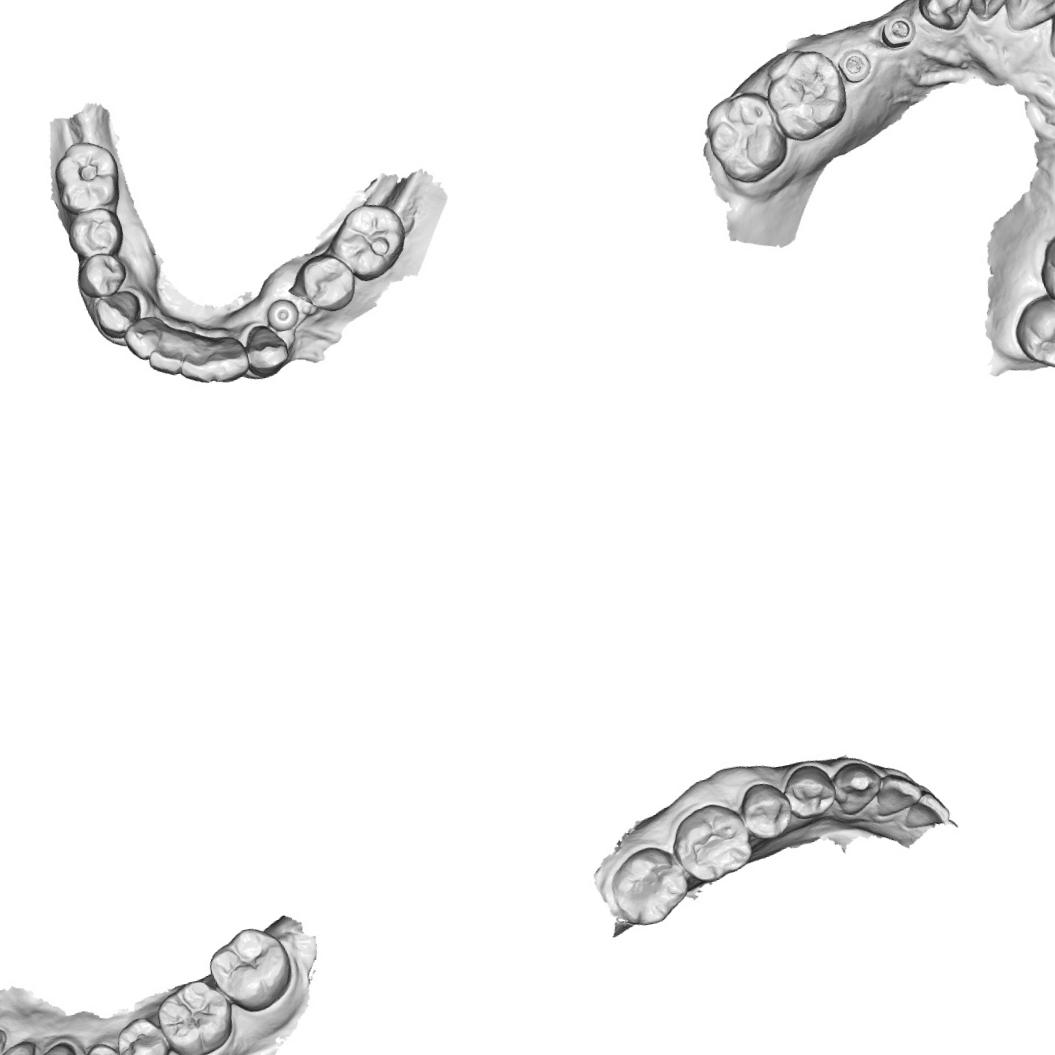canine: (827, 756, 887, 818), (240, 318, 293, 380), (90, 286, 145, 340), (913, 0, 975, 36), (19, 1037, 83, 1055)
implant: (262, 295, 302, 334), (883, 10, 917, 49), (840, 46, 872, 84)
incisor: (869, 767, 926, 818), (120, 312, 168, 363), (205, 334, 252, 385), (898, 788, 951, 833), (143, 331, 191, 378), (174, 341, 216, 388), (998, 0, 1055, 31), (961, 0, 1022, 23)
molar: (698, 86, 790, 190), (202, 920, 298, 1019), (665, 796, 757, 888), (602, 839, 693, 932), (322, 197, 412, 287), (763, 48, 849, 142), (150, 974, 240, 1055), (48, 134, 126, 217), (1010, 286, 1055, 379), (1034, 221, 1055, 319)
premolar: (296, 249, 360, 317), (734, 777, 797, 843), (779, 758, 840, 822), (63, 202, 126, 260), (72, 249, 130, 302), (111, 1012, 174, 1055), (70, 1037, 132, 1055)
